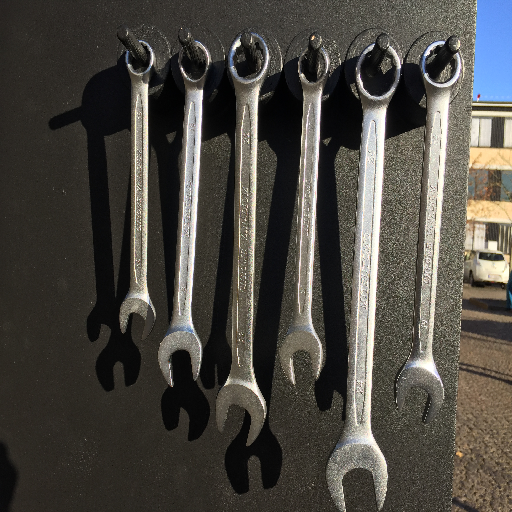bottom: (323, 433, 391, 512), (212, 375, 270, 449), (390, 360, 446, 430), (277, 324, 325, 390), (156, 326, 204, 390), (117, 292, 158, 343)
top: (351, 41, 405, 107), (225, 28, 274, 91), (417, 40, 465, 94), (175, 40, 214, 90), (294, 45, 333, 92), (121, 39, 160, 82)
